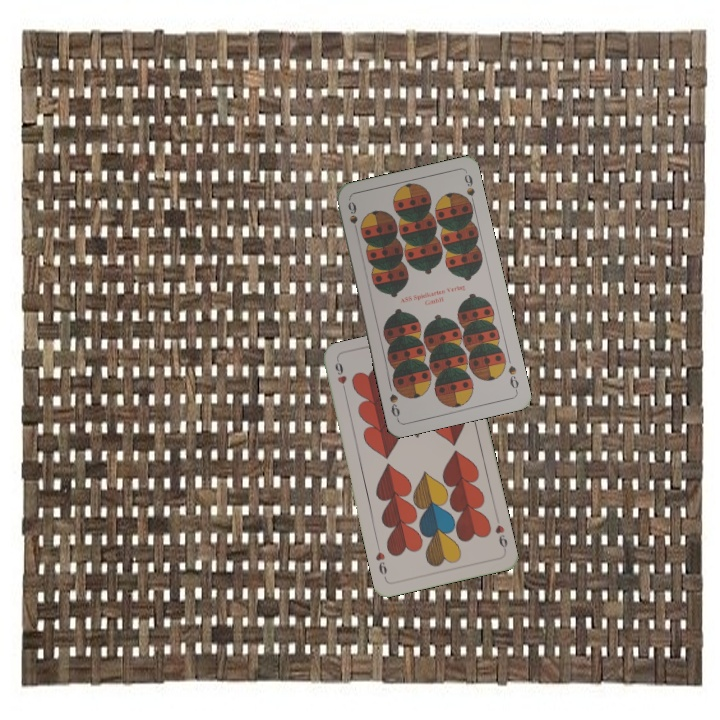H9: (491, 514, 510, 554), (331, 357, 349, 397)
S9: (344, 197, 361, 238), (504, 361, 521, 394)
